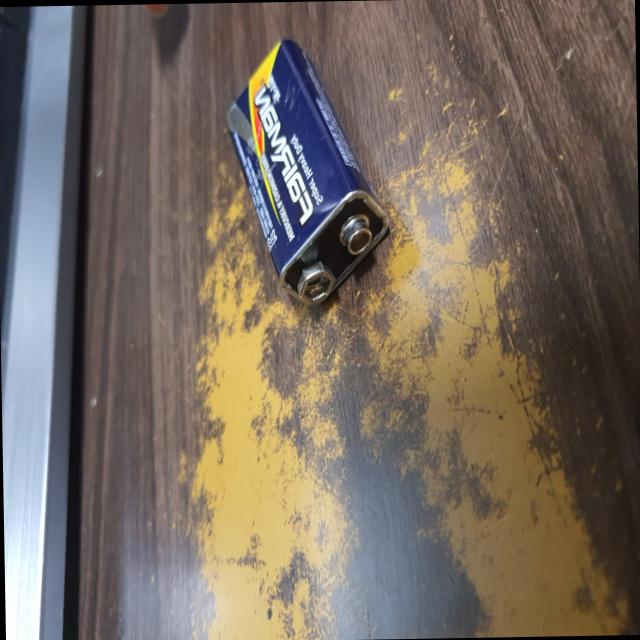battery-etc-etc: (216, 15, 397, 318)
